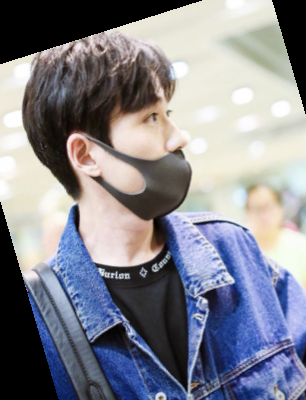mask_weared_incorrect: (15, 32, 213, 222)
